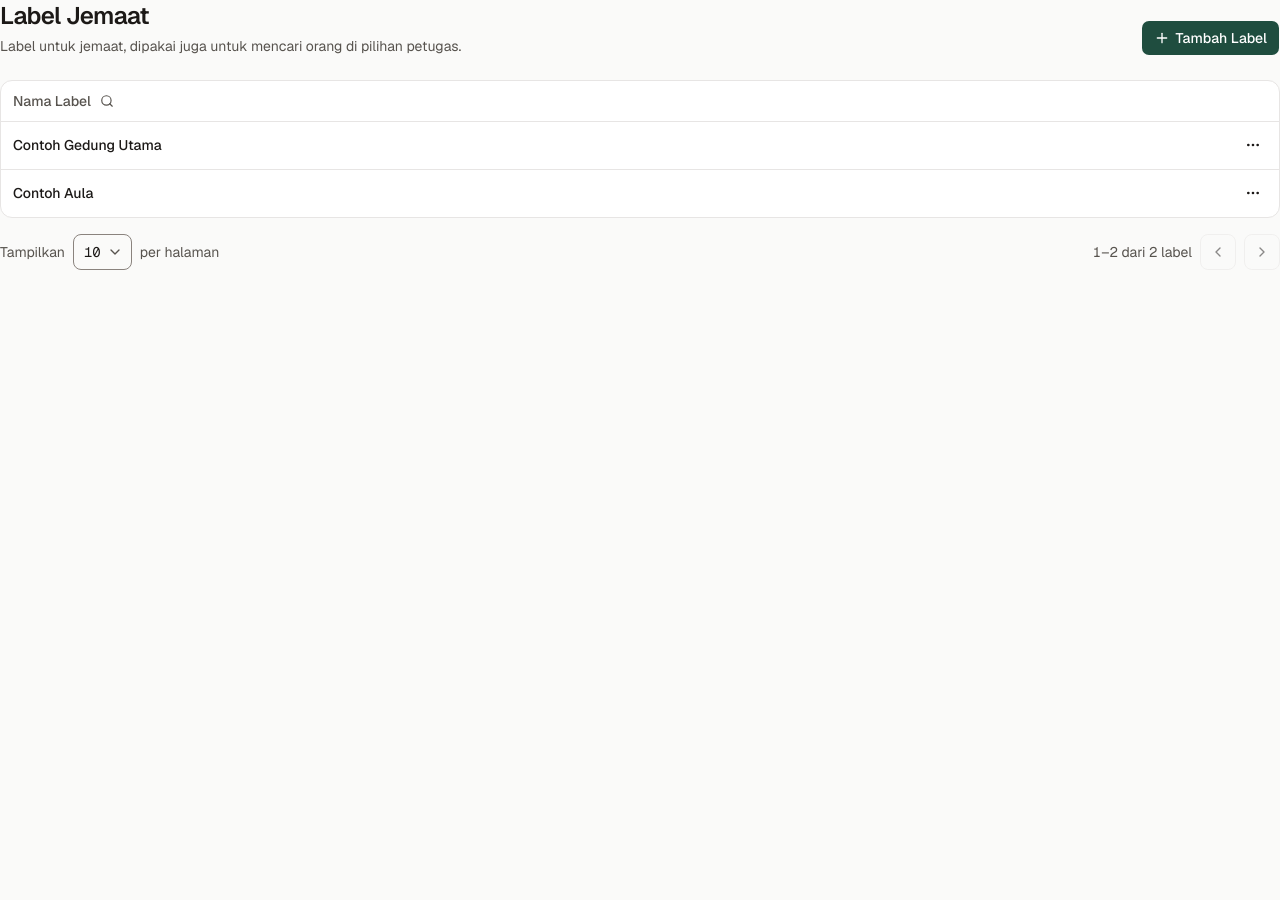
Test: MasterDataManager › keeps the dialog open and shows the server's message on failure
The image size is (1280, 900).
Click the button "Tambah Label": (1210, 38) [1141,20,1279,56]
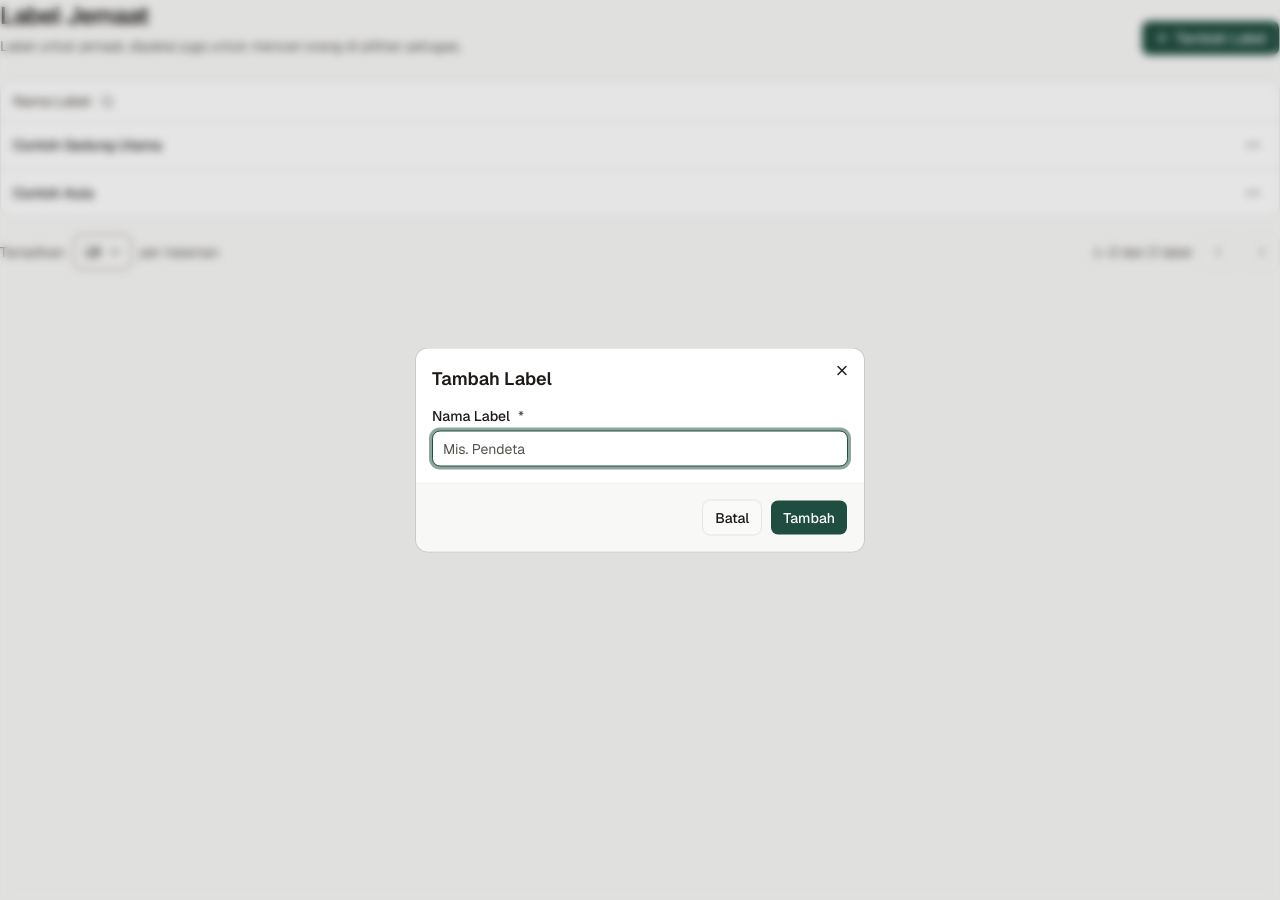
In the field labelled "Nama Label *": (640, 448) [432,430,848,466], type "Contoh Aula"
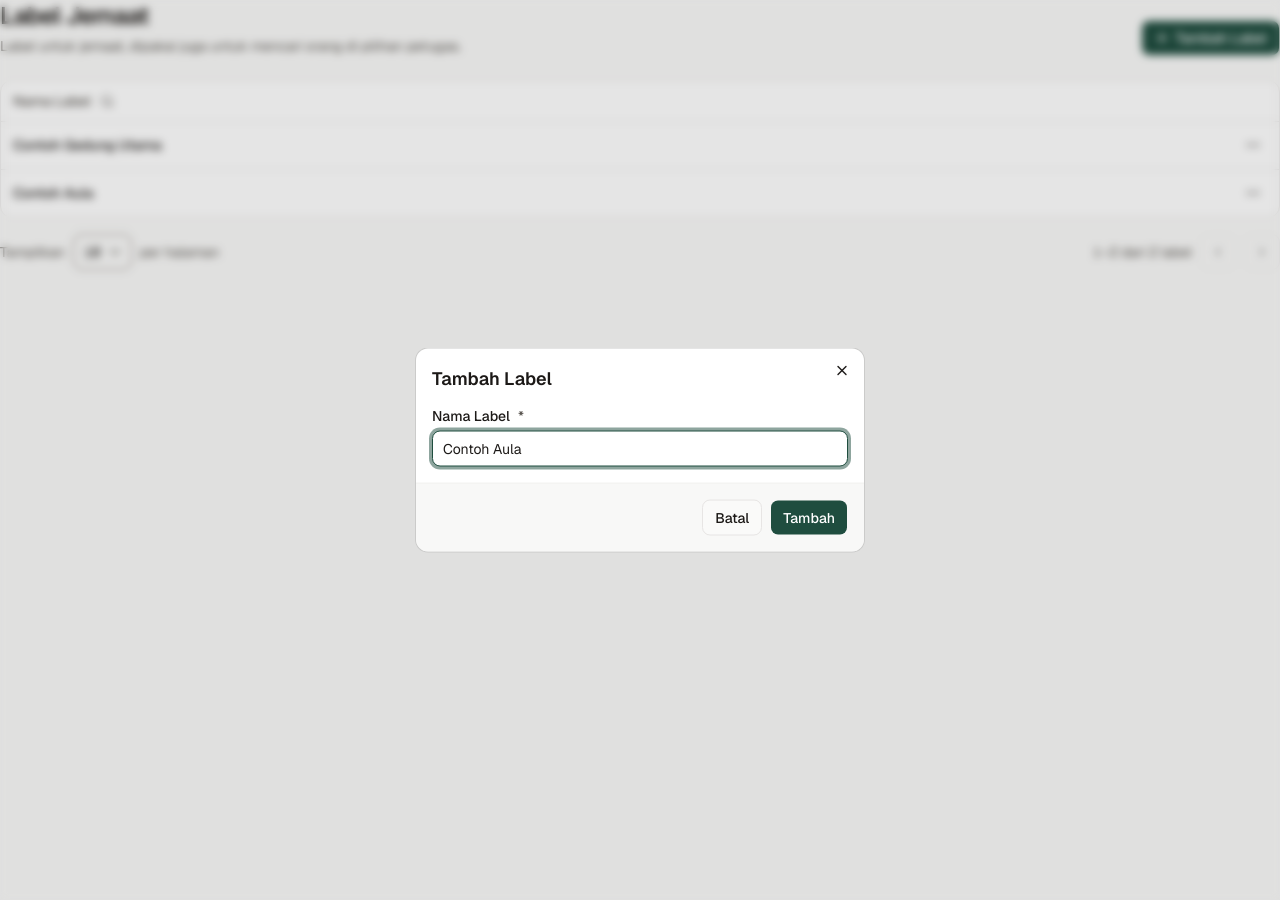
Click the button "Tambah": (809, 518) [770,500,848,536]
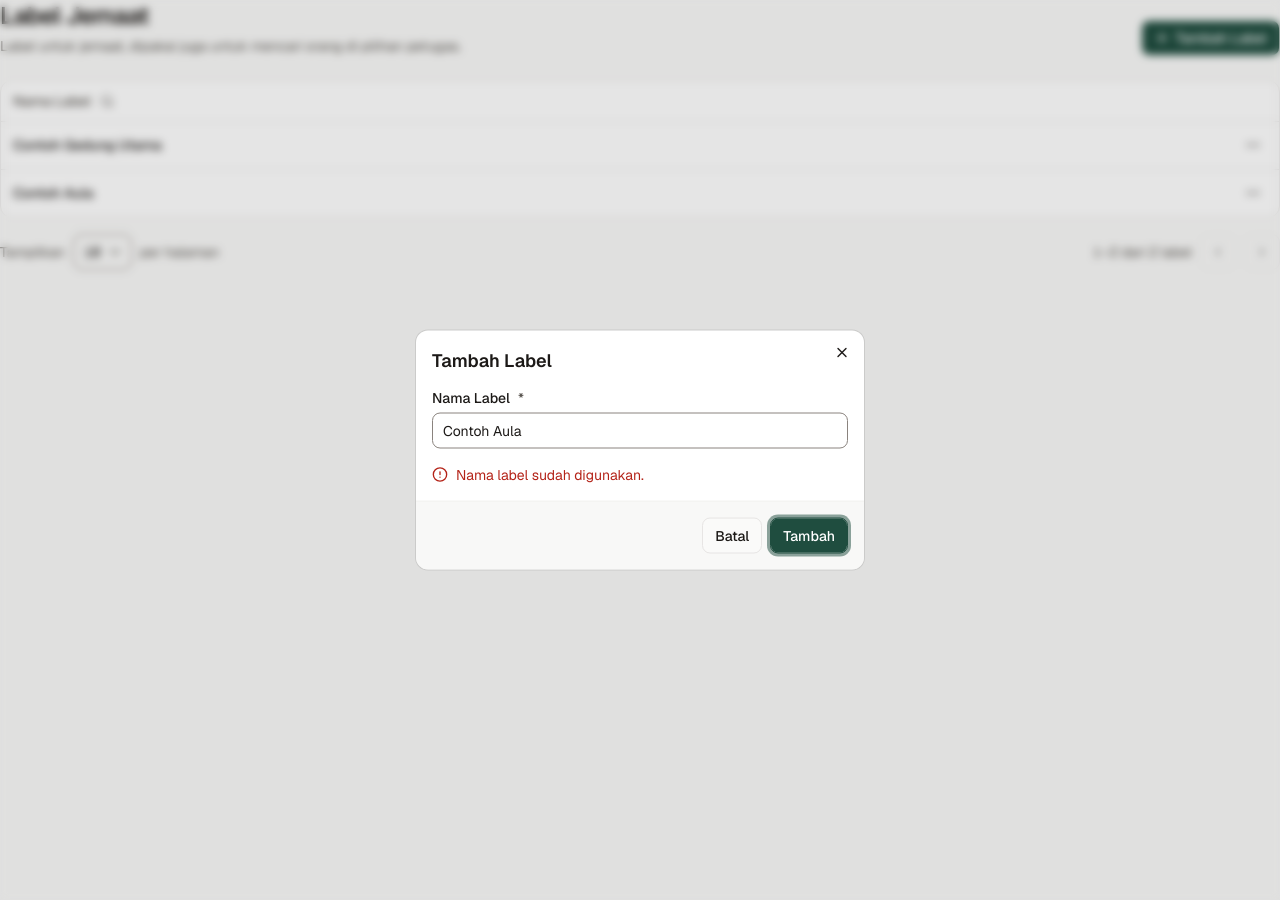
expect the dialog is shown: met, box [416,330,864,570]
expect the message reads "Nama label sudah digunakan.": met, box [456,466,644,484]
